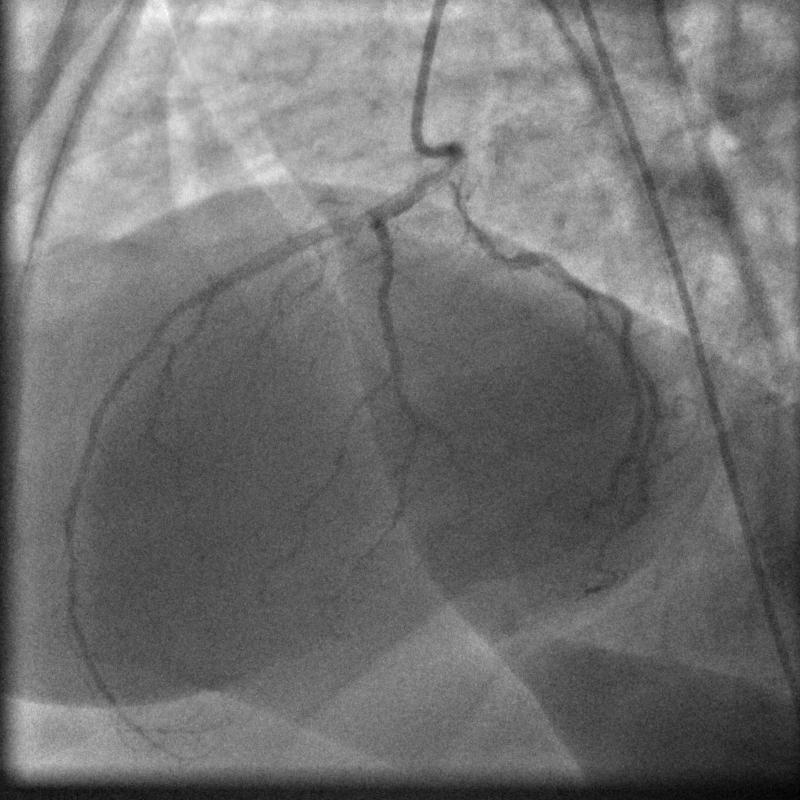Stenosis: (487, 227, 530, 277)
